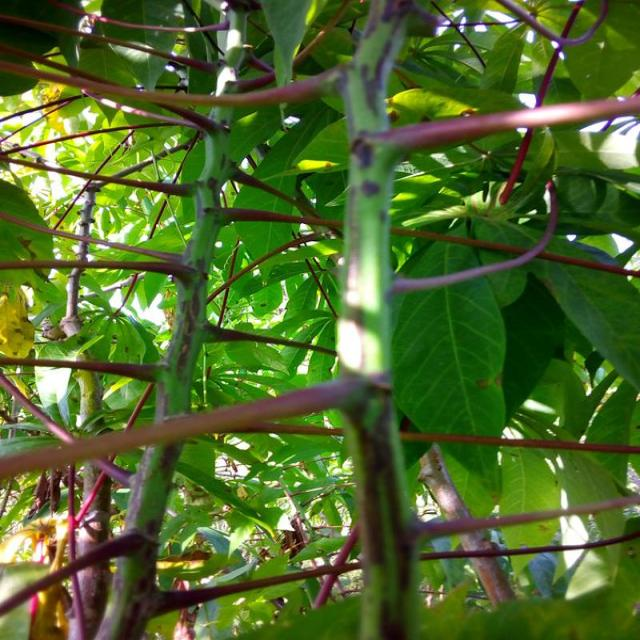cassava leaf: (0, 1, 638, 637), (388, 234, 509, 518)
